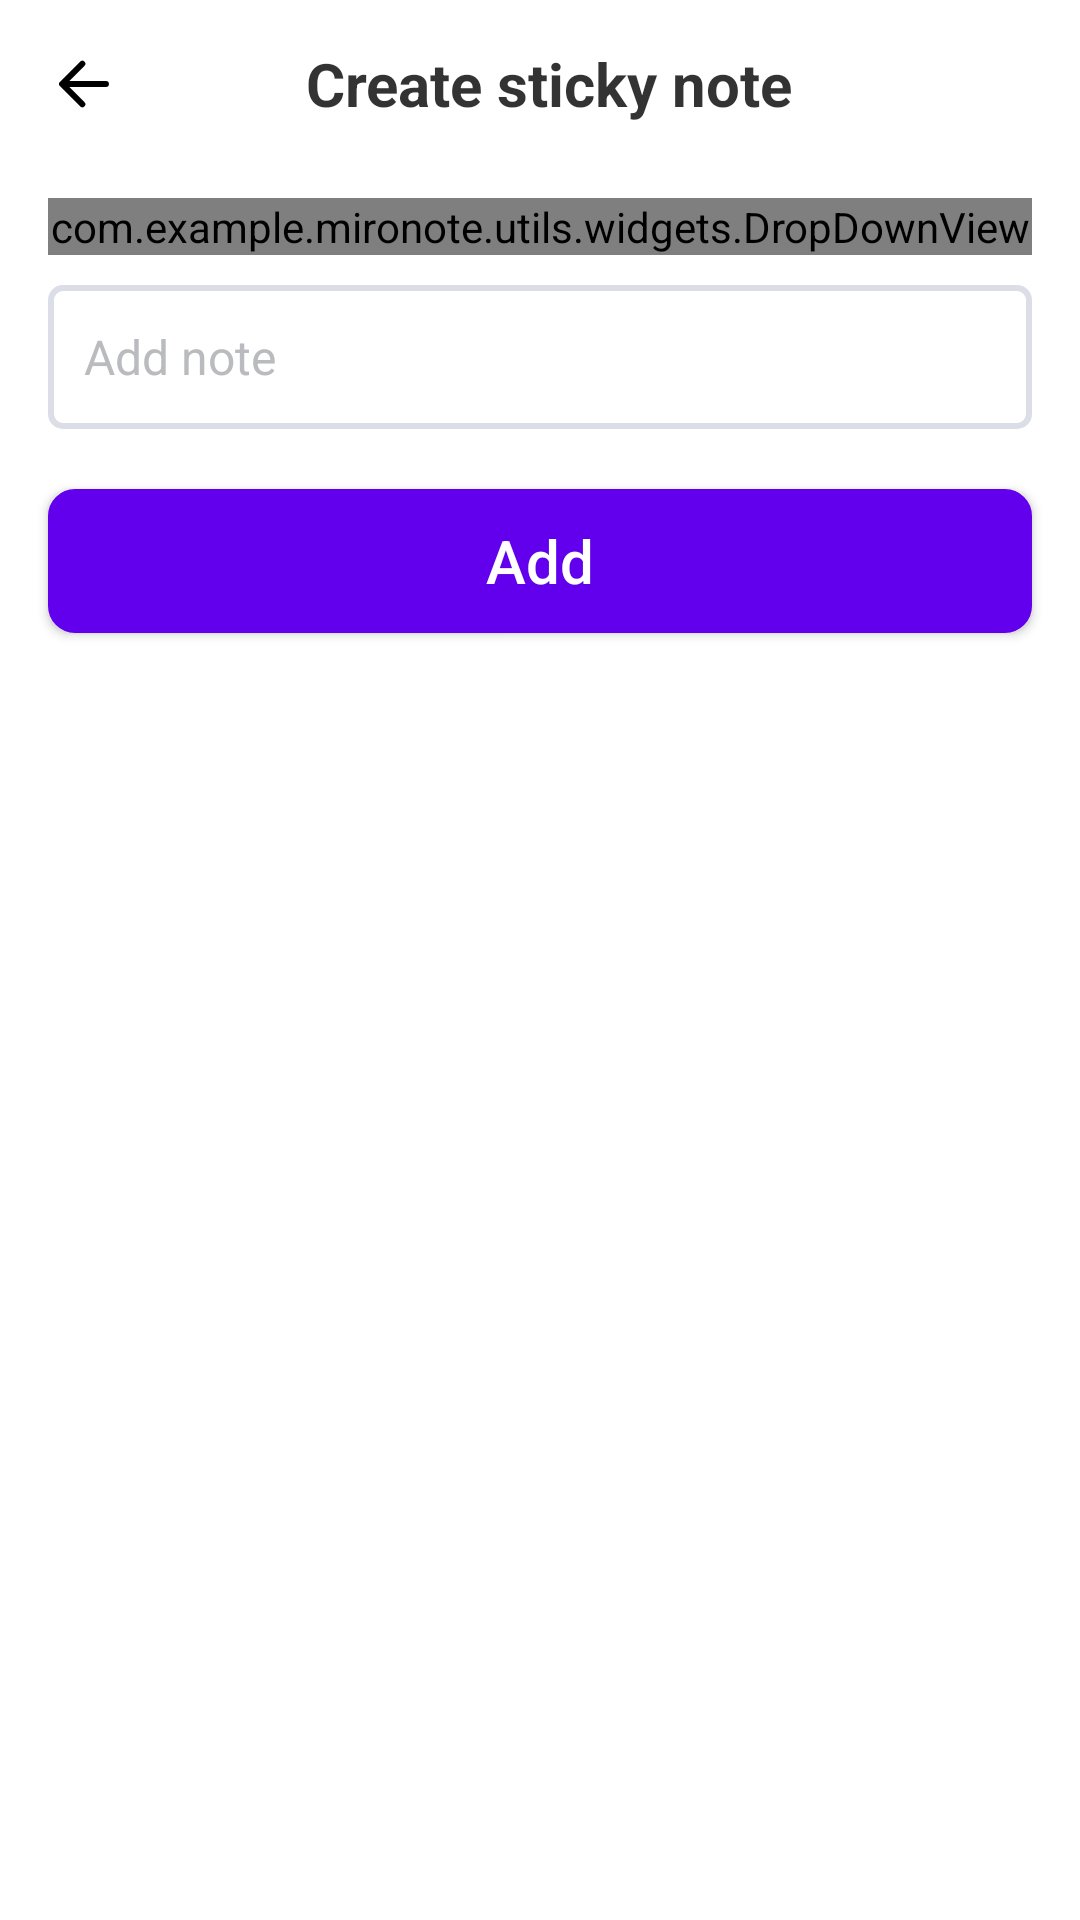

Where icons sit on this 1080x1920 app screen, as {"x1": x1, "y1": y1, "x2": x2, "y2": y2}:
arrow back: {"x1": 59, "y1": 60, "x2": 109, "y2": 108}
